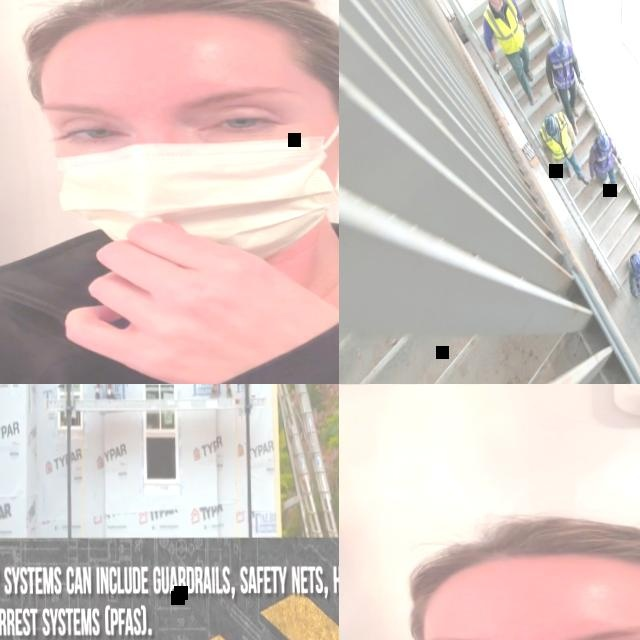Hardhat: (554, 38, 568, 62), (544, 112, 558, 136), (597, 132, 611, 153), (632, 253, 640, 272)
Mask: (44, 89, 339, 263)
NO-Hardhat: (391, 502, 640, 603), (28, 0, 339, 64)
NO-Mask: (494, 0, 503, 8)
NO-Safety Vest: (0, 263, 339, 384)
Person: (0, 0, 339, 384), (339, 493, 640, 640), (481, 0, 536, 105), (538, 109, 590, 185), (545, 37, 585, 134), (588, 132, 623, 194), (628, 248, 640, 299)
Safety Vest: (481, 0, 524, 53), (539, 109, 572, 158), (548, 42, 575, 87), (591, 134, 613, 168)
